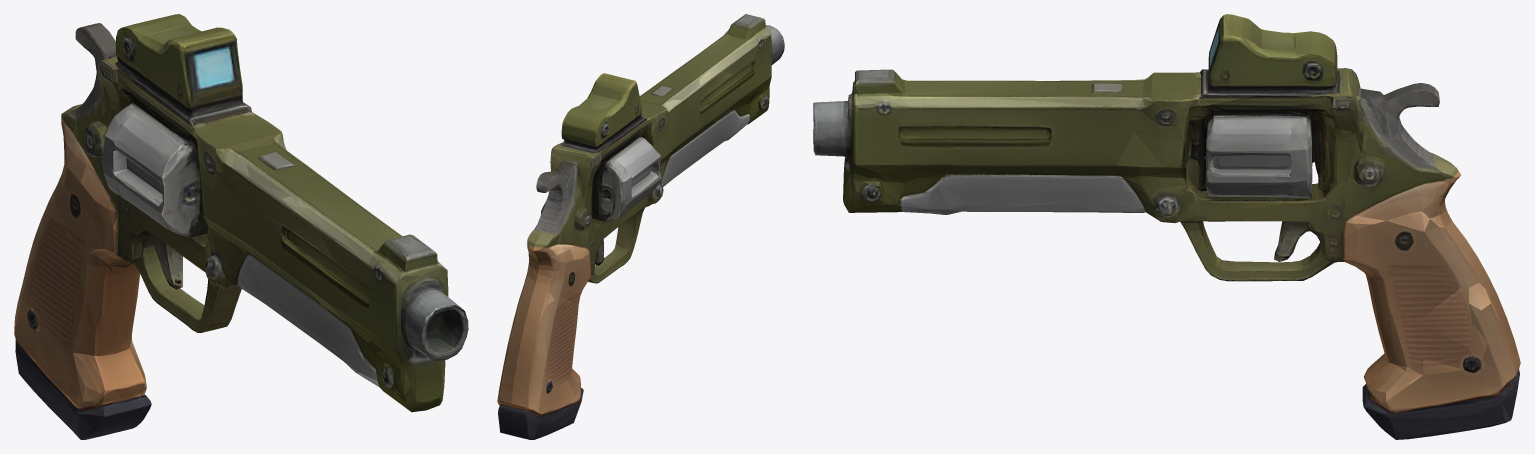
The model's file is magnum.glb.
3 renders of one model, left to right at view 1: azimuth 30°, elevation 25°; view 2: azimuth 150°, elevation 25°; view 3: azimuth 270°, elevation 25°, orthographic. The views are drawn at different scales.
Visible parts, largest first — view 1: geometry_0; view 2: geometry_0; view 3: geometry_0.
Part boxes in pixels (x1,y1,x2,y2): geometry_0: (14, 14, 468, 439); geometry_0: (497, 14, 784, 439); geometry_0: (813, 14, 1520, 439).
Bounding box in the file's own units: 0.1628 × 0.6308 × 1.
Materials: 1 (1 with a texture image).
